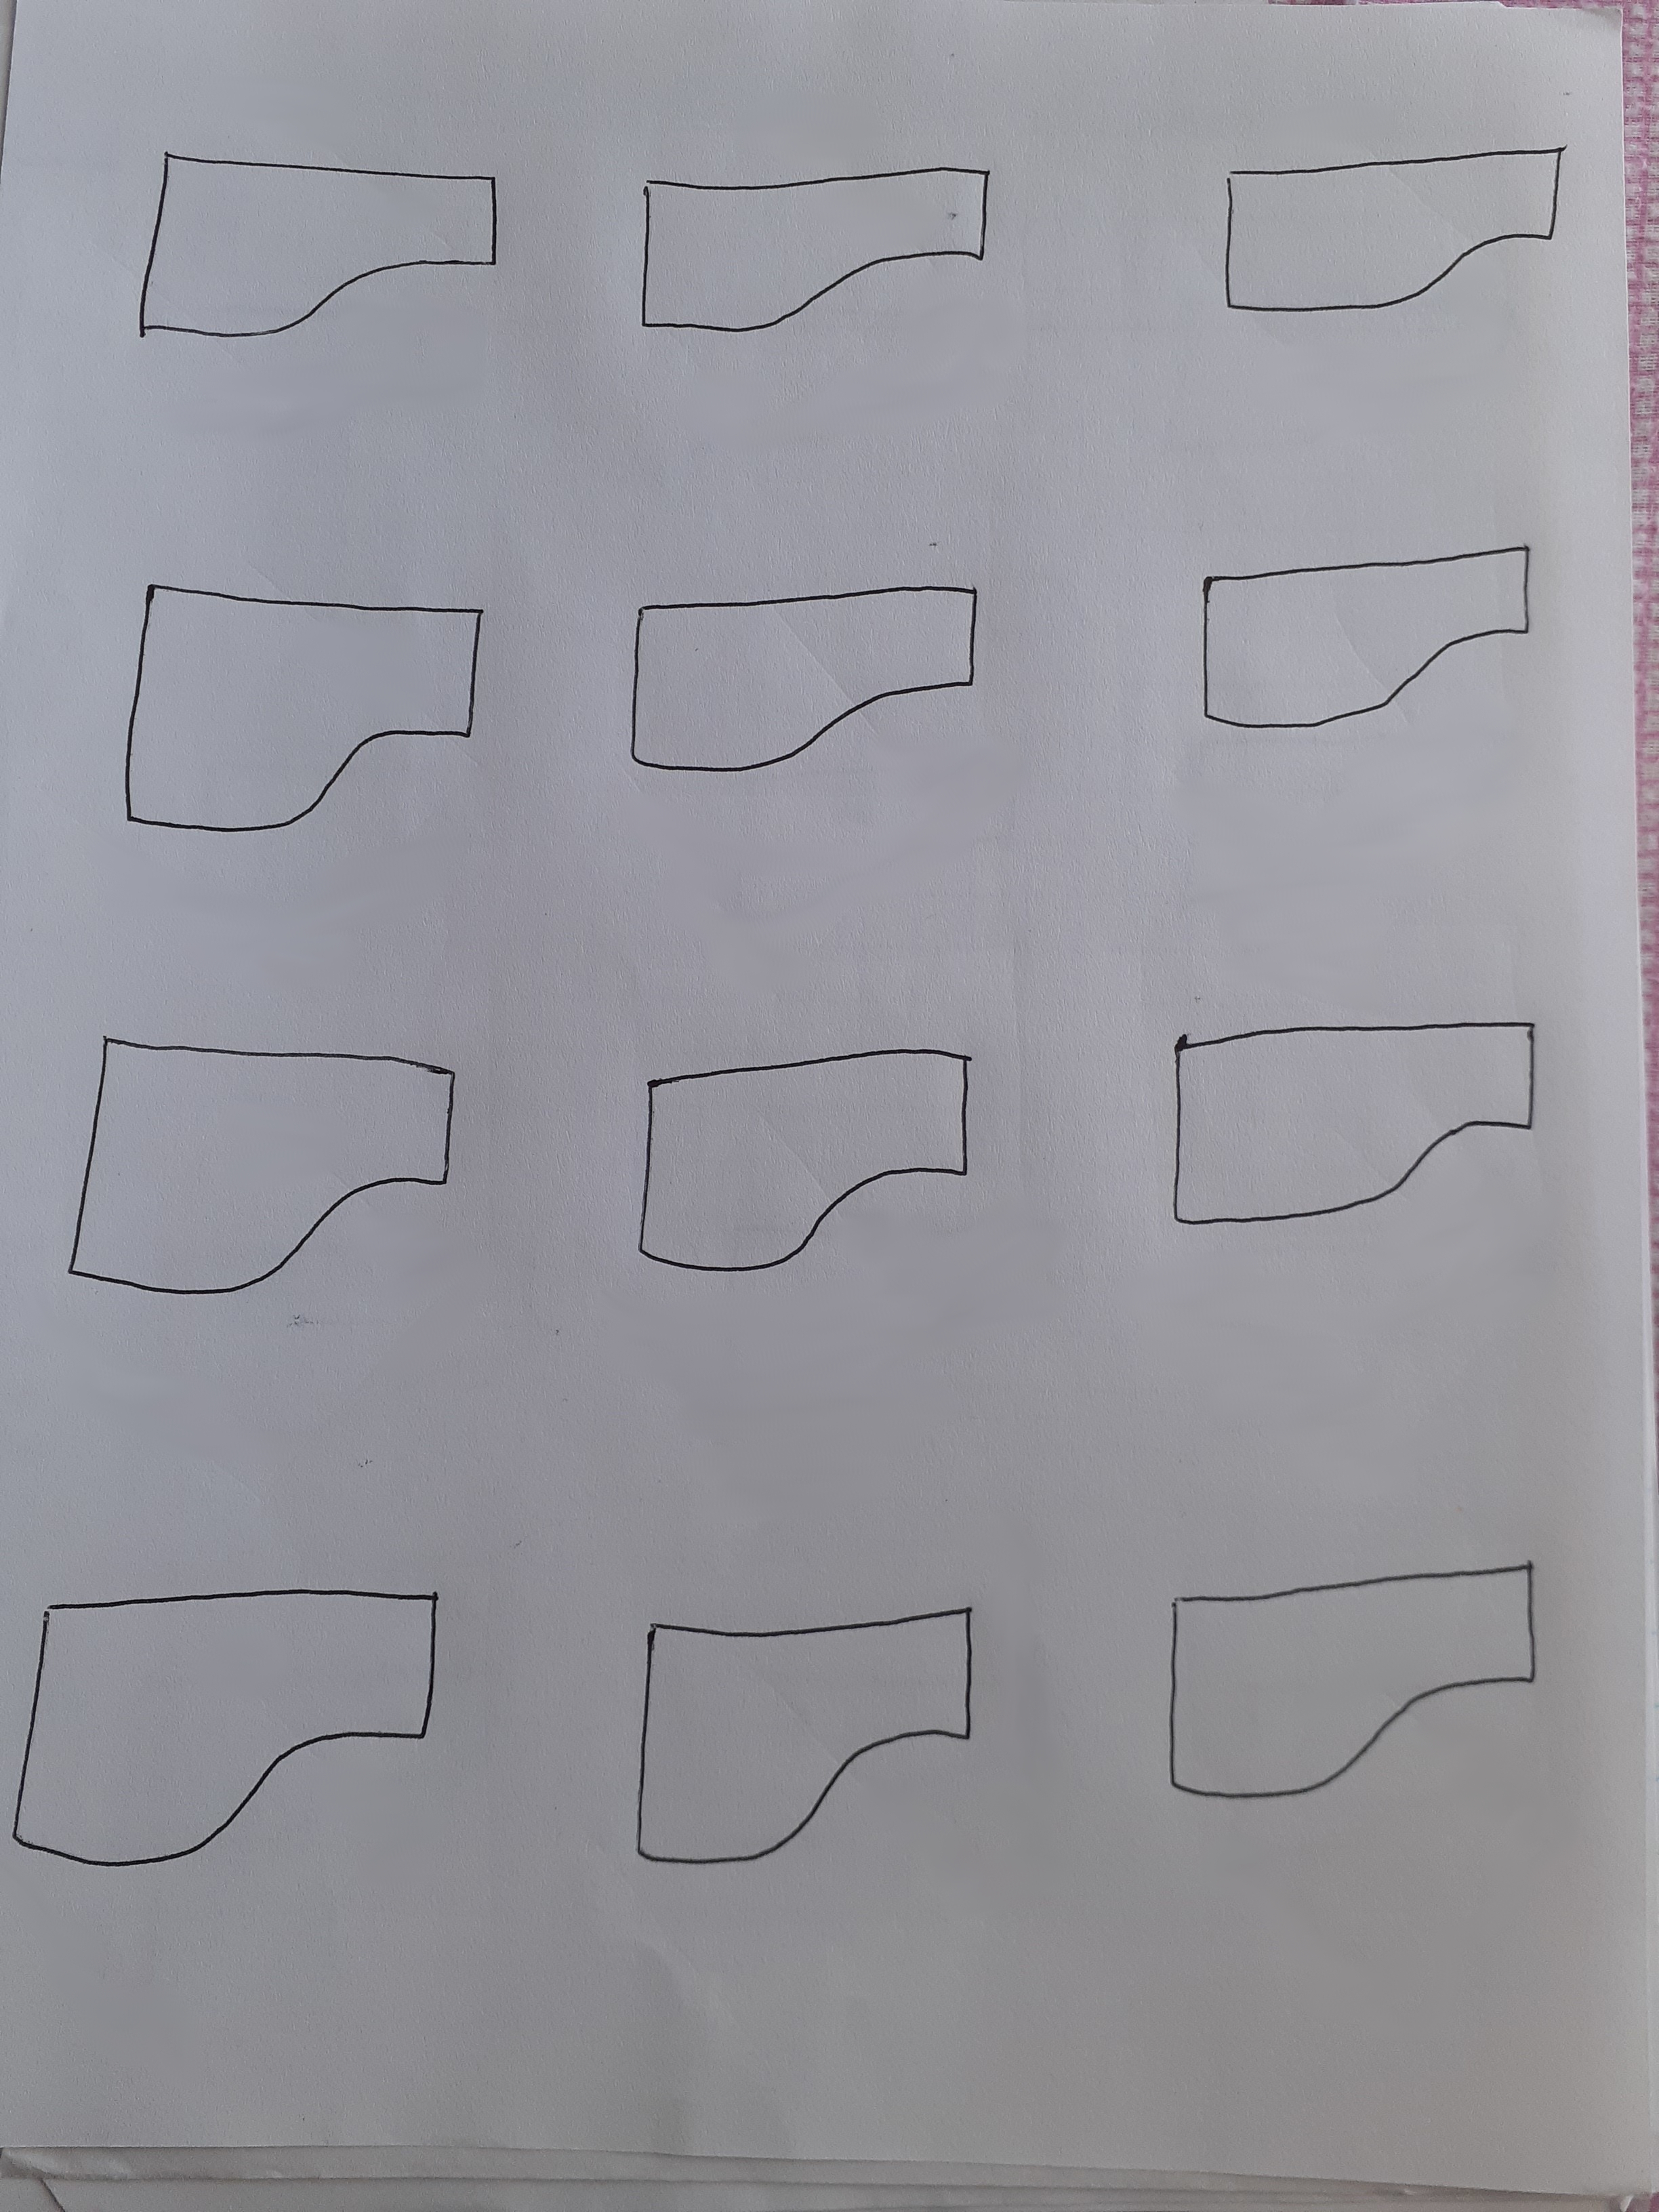print: (7, 1557, 519, 1912), (1122, 1533, 1589, 1872), (45, 1001, 479, 1350), (594, 1564, 997, 1926), (92, 550, 519, 887), (106, 89, 530, 404), (620, 1008, 1033, 1299), (1147, 998, 1567, 1264), (603, 564, 1025, 826), (1162, 124, 1582, 381), (634, 110, 1025, 385), (1162, 533, 1567, 761)
